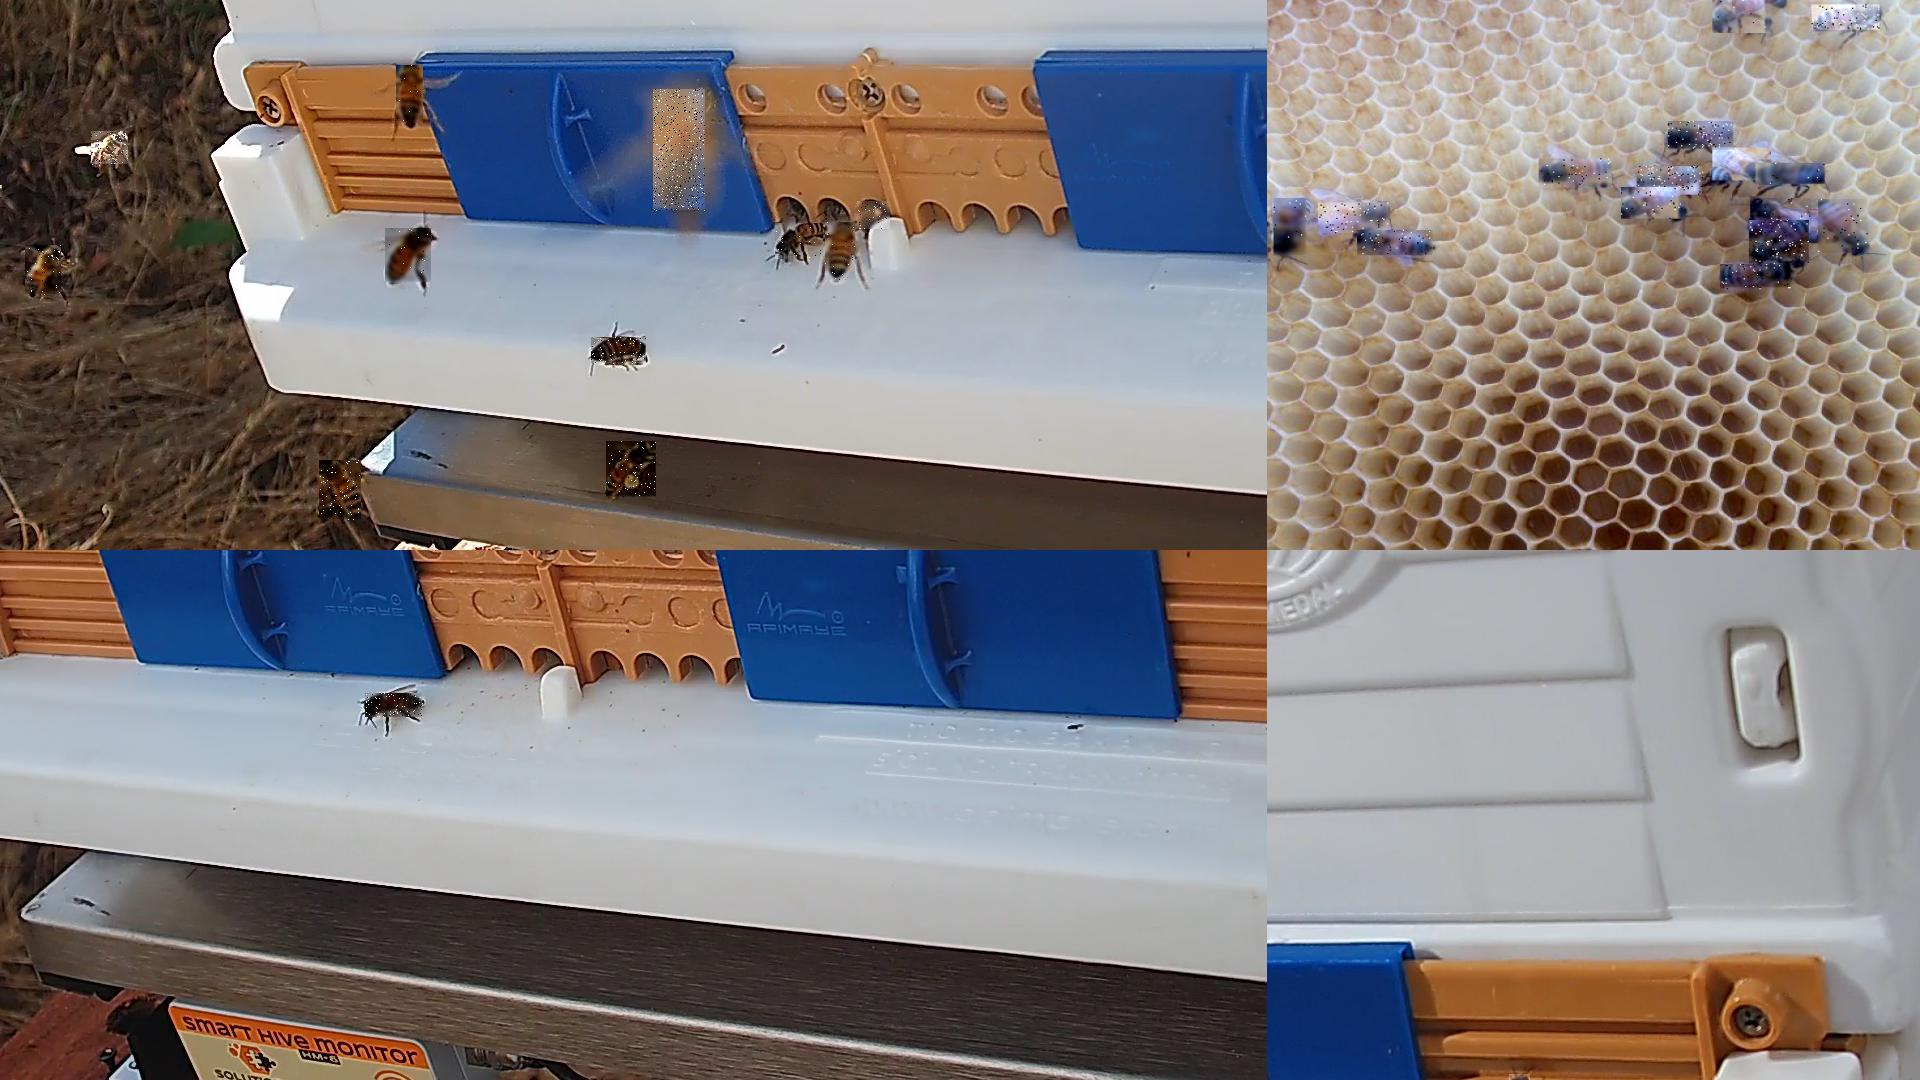bee: (653, 90, 707, 212), (1751, 198, 1817, 243), (1749, 222, 1811, 266), (1818, 199, 1869, 255), (319, 460, 363, 522), (385, 228, 433, 285), (1319, 203, 1390, 235), (1622, 187, 1685, 220), (1713, 148, 1774, 182), (1358, 231, 1436, 257), (1539, 160, 1613, 187), (1275, 199, 1309, 258), (1713, 0, 1771, 34), (1668, 121, 1735, 150), (1638, 166, 1705, 195), (25, 245, 62, 297), (1721, 265, 1792, 291), (1812, 5, 1880, 32), (825, 223, 856, 282), (775, 224, 824, 260), (397, 66, 425, 127), (591, 338, 647, 365), (1755, 164, 1826, 185), (367, 694, 425, 719), (91, 132, 129, 167), (0, 185, 4, 206)
pollenbee: (607, 442, 657, 500), (857, 202, 891, 229)
